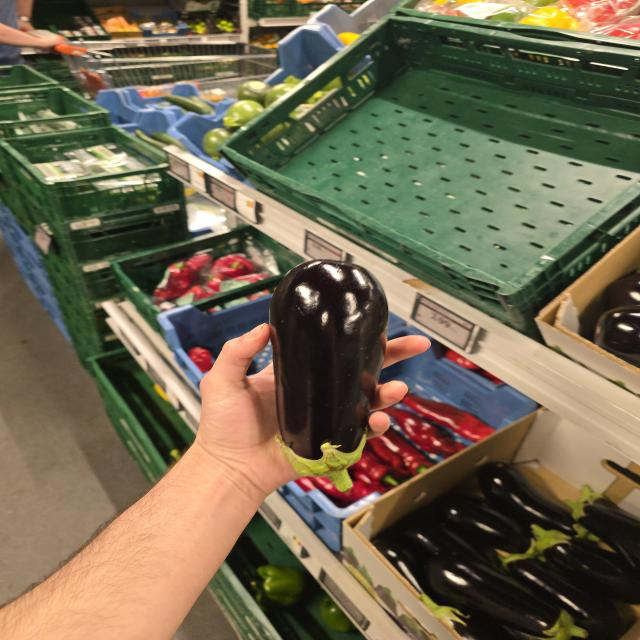Eggplant: (270, 259, 388, 491), (423, 551, 588, 640), (481, 463, 577, 537)
